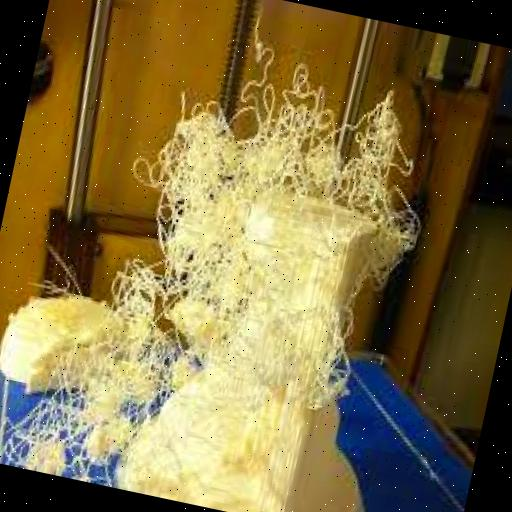spaghetti: (98, 30, 462, 366)
